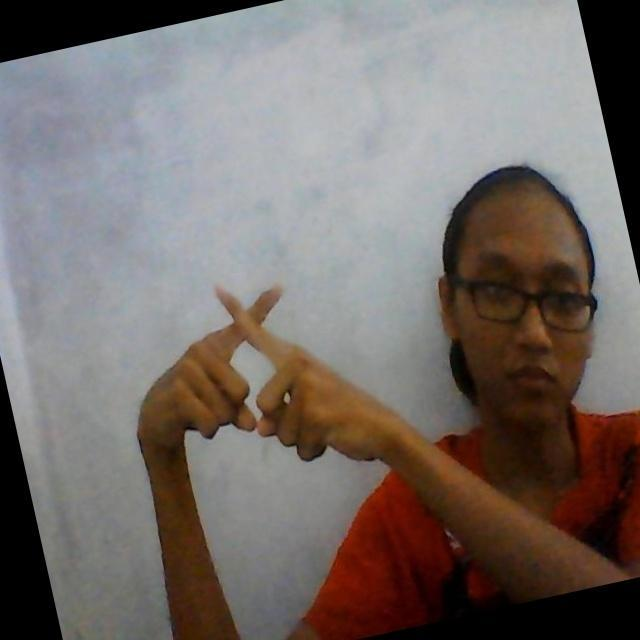X: (110, 232, 387, 498)
